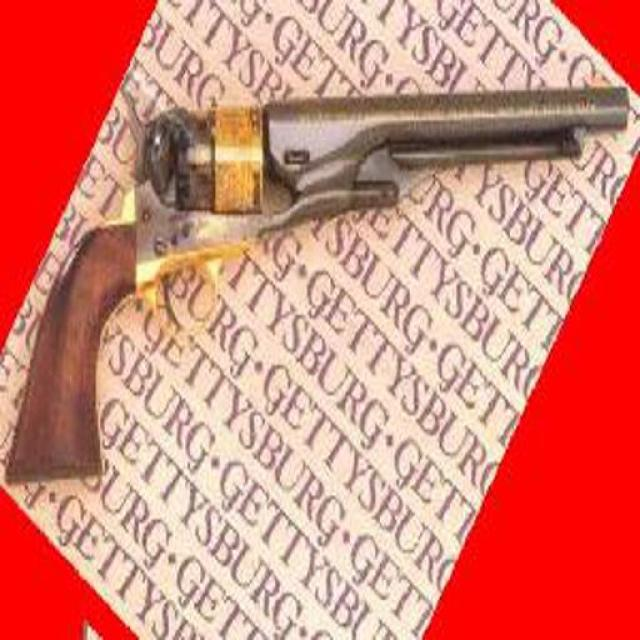pistol: (1, 60, 626, 485)
